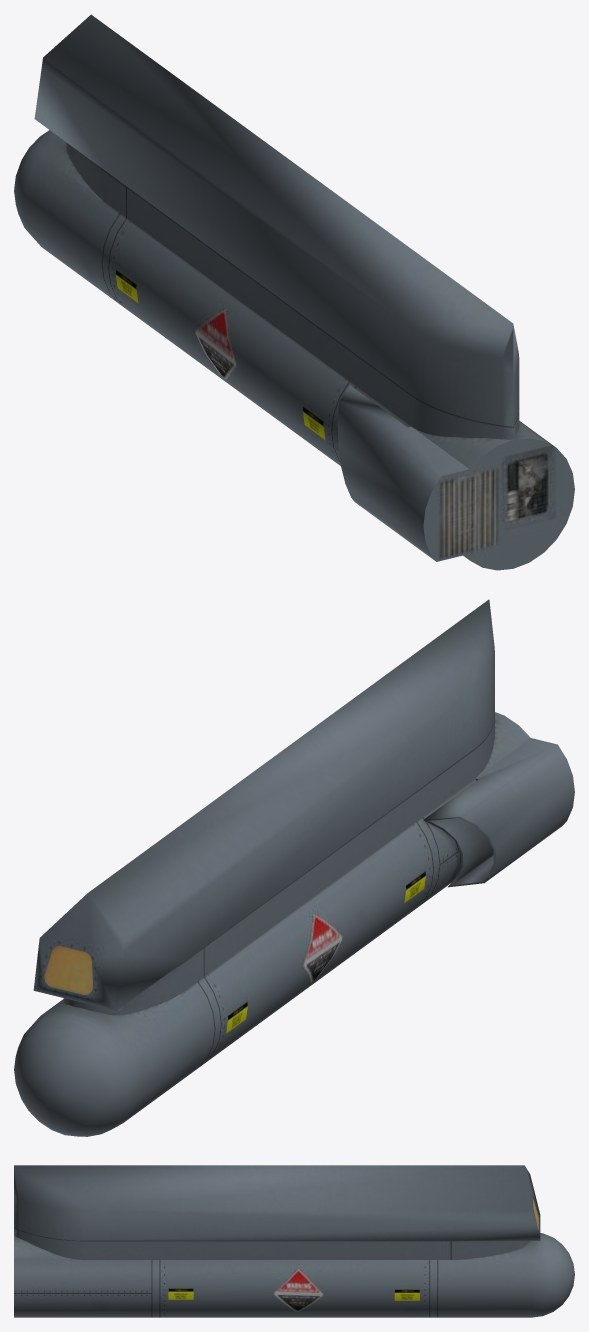
Rendered from flrpod.glb.
3 renders of one model, top to bottom at view 1: azimuth 30°, elevation 25°; view 2: azimuth 150°, elevation 25°; view 3: azimuth 270°, elevation 25°, orthographic. The views are drawn at different scales.
Parts seen in each view (by area): view 1: flrpod_body; view 2: flrpod_body; view 3: flrpod_body.
Part boxes in pixels (box(x1,y1,x2,y2)): flrpod_body: box(14, 14, 574, 570); flrpod_body: box(14, 599, 574, 1136); flrpod_body: box(14, 1165, 574, 1317).
Bounding box in the file's own units: 0.5311 × 0.8213 × 2.81.
Materials: 1 (1 with a texture image).
